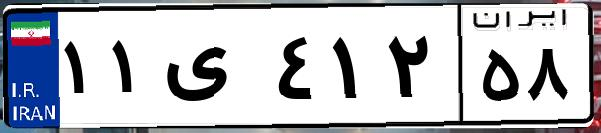1: (330, 28, 385, 110), (57, 26, 110, 100), (110, 28, 158, 98)
2: (385, 28, 445, 110)
4: (270, 28, 330, 110)
5: (475, 38, 525, 113)
8: (525, 38, 570, 115)
ی: (158, 20, 270, 120)
